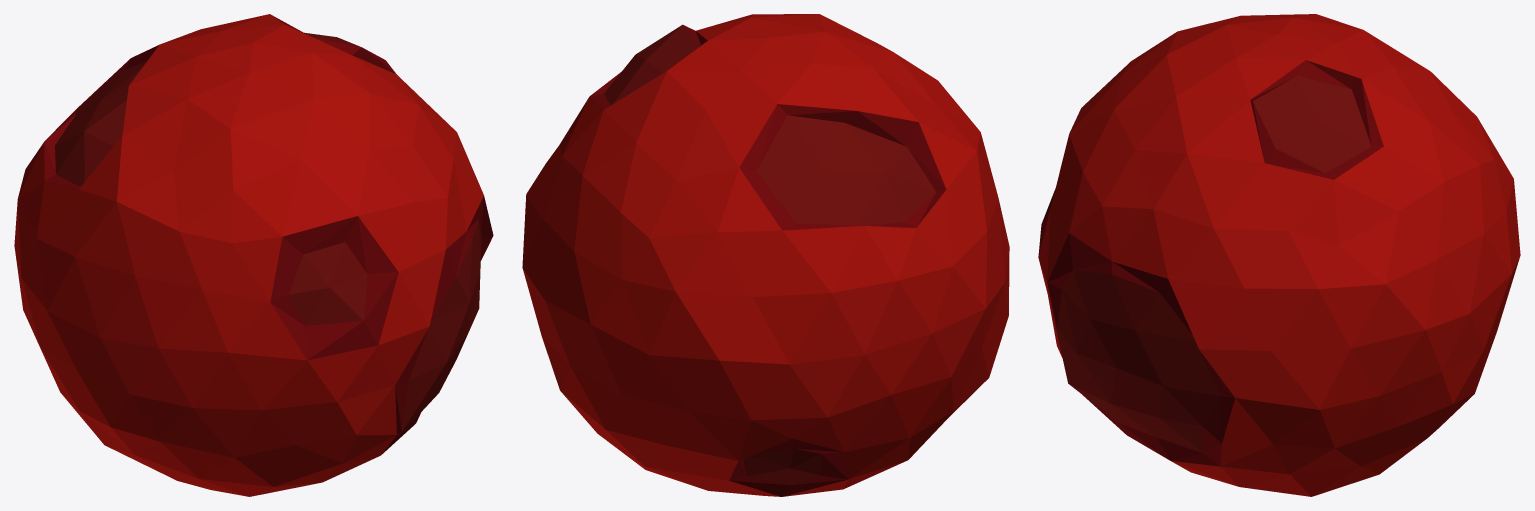
File: mars.obj
3 renders of one model, left to right at view 1: azimuth 30°, elevation 25°; view 2: azimuth 150°, elevation 25°; view 3: azimuth 270°, elevation 25°, orthographic. The views are drawn at different scales.
Parts seen in each view (by area): view 1: Mars_Icosphere.002_Mars, Mars_Icosphere.002_MarsHighlights, Mars_Icosphere.002_MarsExtraHighlights; view 2: Mars_Icosphere.002_Mars, Mars_Icosphere.002_MarsHighlights, Mars_Icosphere.002_MarsExtraHighlights; view 3: Mars_Icosphere.002_Mars, Mars_Icosphere.002_MarsHighlights, Mars_Icosphere.002_MarsExtraHighlights.
Part boxes in pixels (bbox=[...]): Mars_Icosphere.002_Mars: bbox=[14, 14, 483, 496]; Mars_Icosphere.002_MarsHighlights: bbox=[55, 32, 481, 435]; Mars_Icosphere.002_MarsExtraHighlights: bbox=[44, 15, 493, 454]; Mars_Icosphere.002_Mars: bbox=[522, 14, 1009, 496]; Mars_Icosphere.002_MarsHighlights: bbox=[604, 24, 935, 485]; Mars_Icosphere.002_MarsExtraHighlights: bbox=[590, 25, 946, 496]; Mars_Icosphere.002_Mars: bbox=[1038, 14, 1520, 496]; Mars_Icosphere.002_MarsHighlights: bbox=[1042, 75, 1371, 453]; Mars_Icosphere.002_MarsExtraHighlights: bbox=[1038, 60, 1383, 466].
Size of the model in its own units: 1.08 by 1.08 by 1.09.
